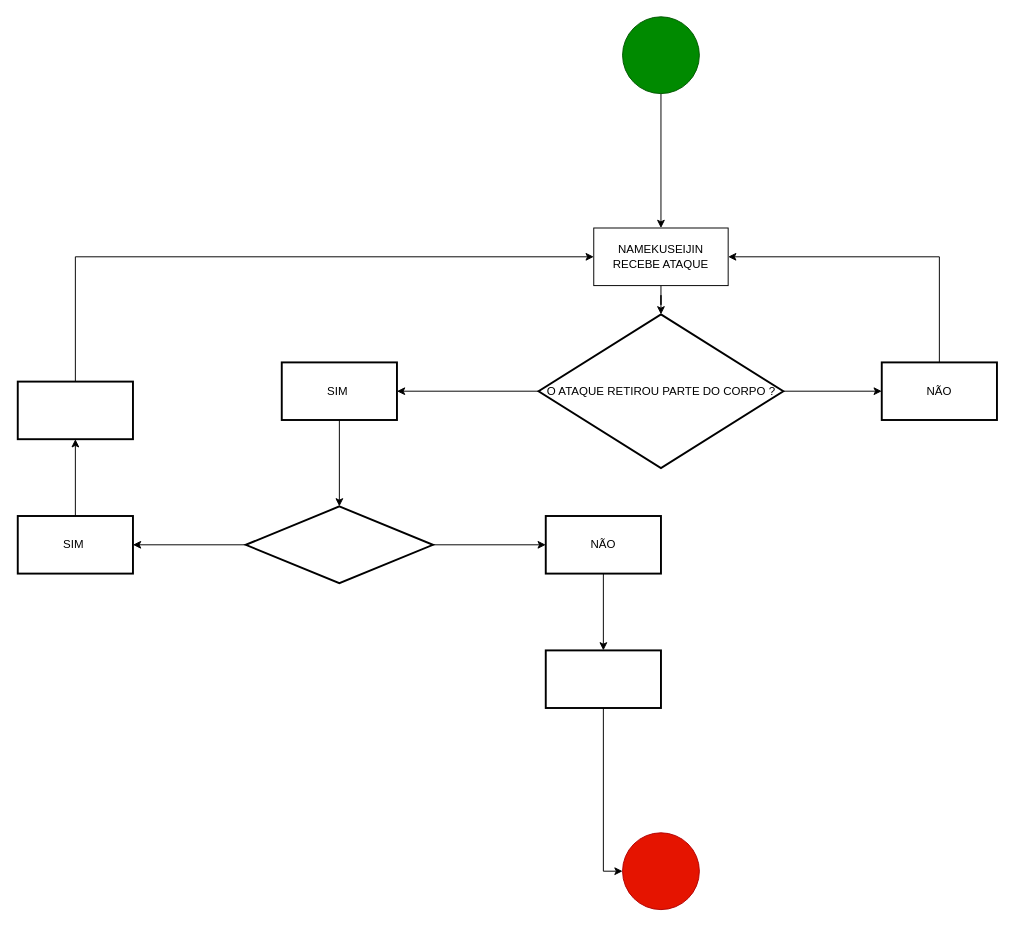
This 1014x926 diagram has some shape labels left out. Here are the shapes that lost their labels. From the top down, the centre of each, then its label:
(74,410): PERDE 10% KI E RECUPERA SEU MEMBRO!
(338,544): ELE PODE SE RECUPERAR ?
(602,678): MORRE
